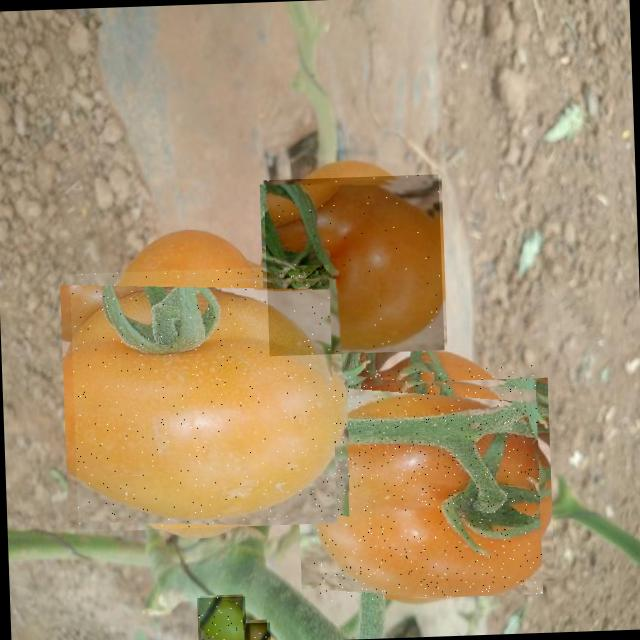Ripe Tomato: (69, 264, 337, 532), (307, 364, 543, 602), (263, 174, 444, 356)
Unripe Tomato: (196, 595, 246, 640), (245, 622, 270, 640)
